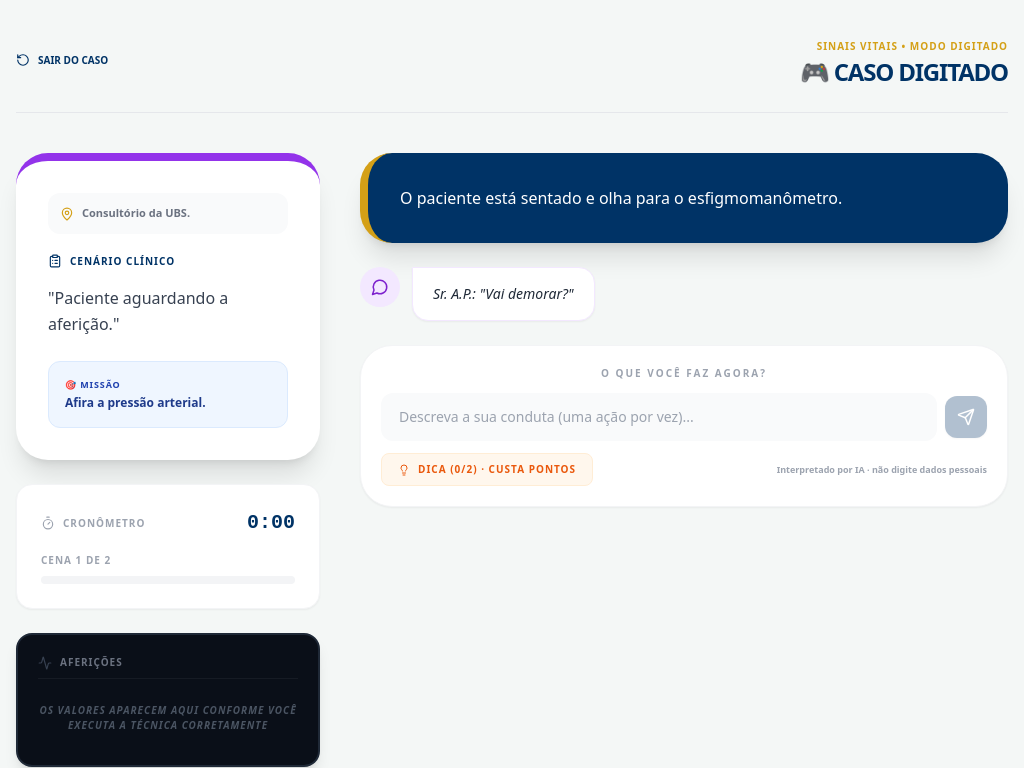
GuidedRpgView — modo digitado › conduta errada: mostra a consequência, não avança e o aluno pode digitar de novo
The width and height of the screenshot is (1024, 768).
Type "já vou medindo" into the field at (659, 417), box [381,393,937,441]
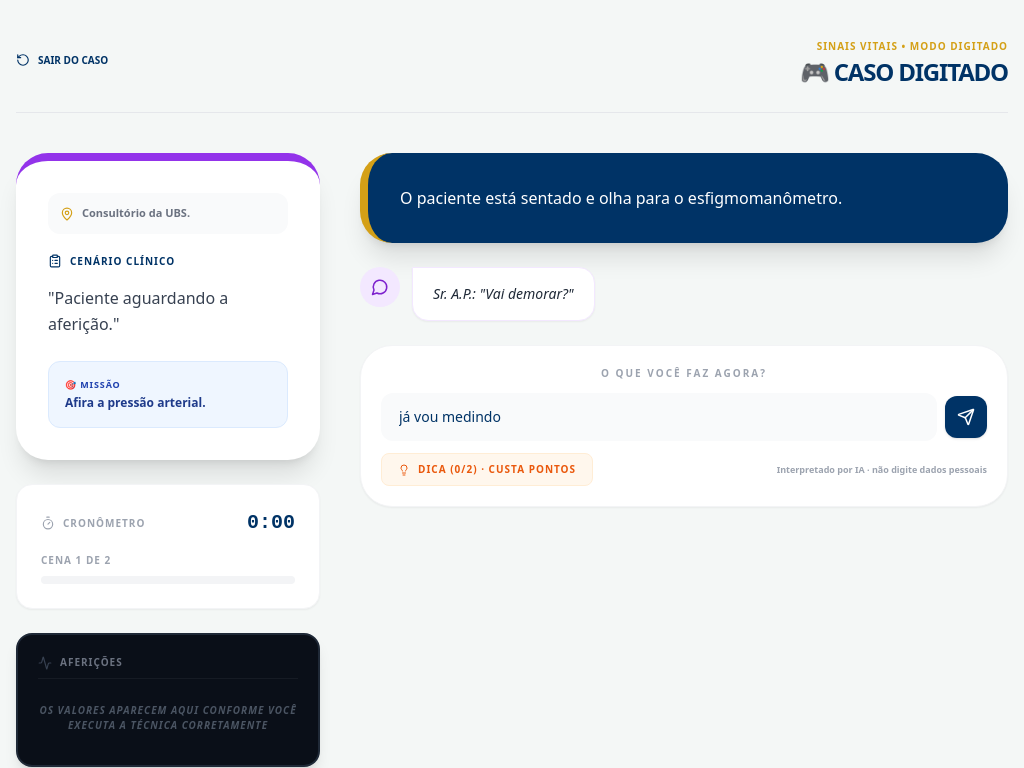
Click the button named "Enviar conduta" at (966, 417), box [945,396,987,438]
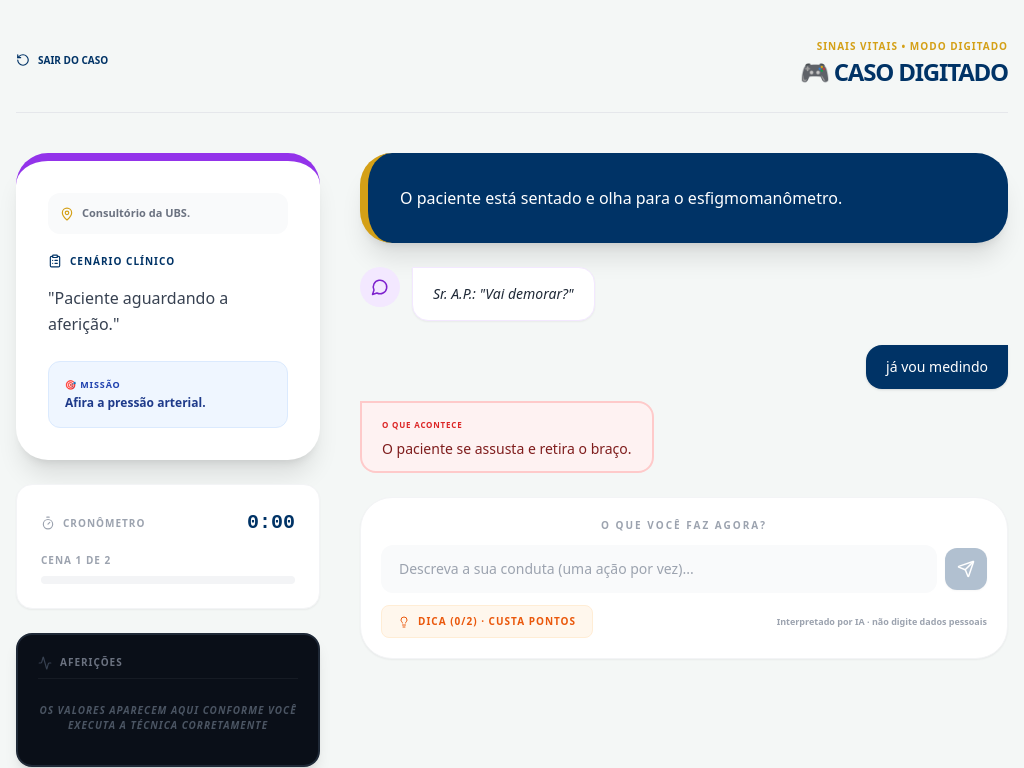
Expected: the button "Continuar" is not shown
Now the text "O paciente se assusta e retira o braço." is shown, box [382,439,632,458]
Type "explico antes" into the field at (659, 569), box [381,545,937,593]
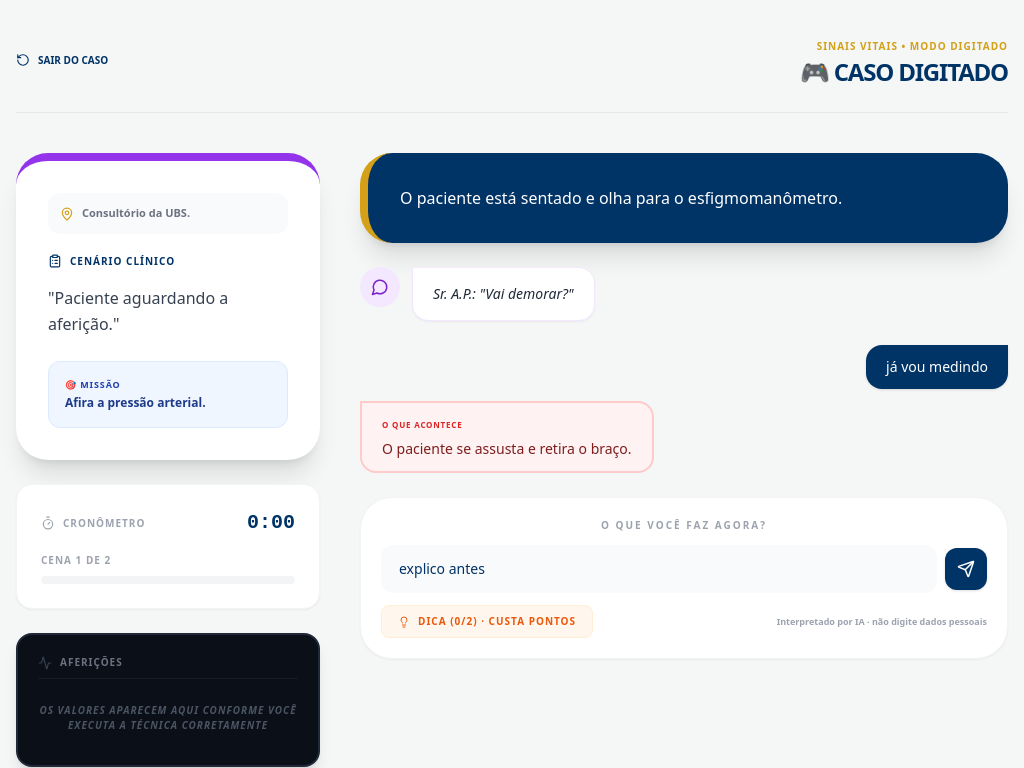
Click the button named "Enviar conduta" at (966, 569), box [945,548,987,590]
(page scrolled)
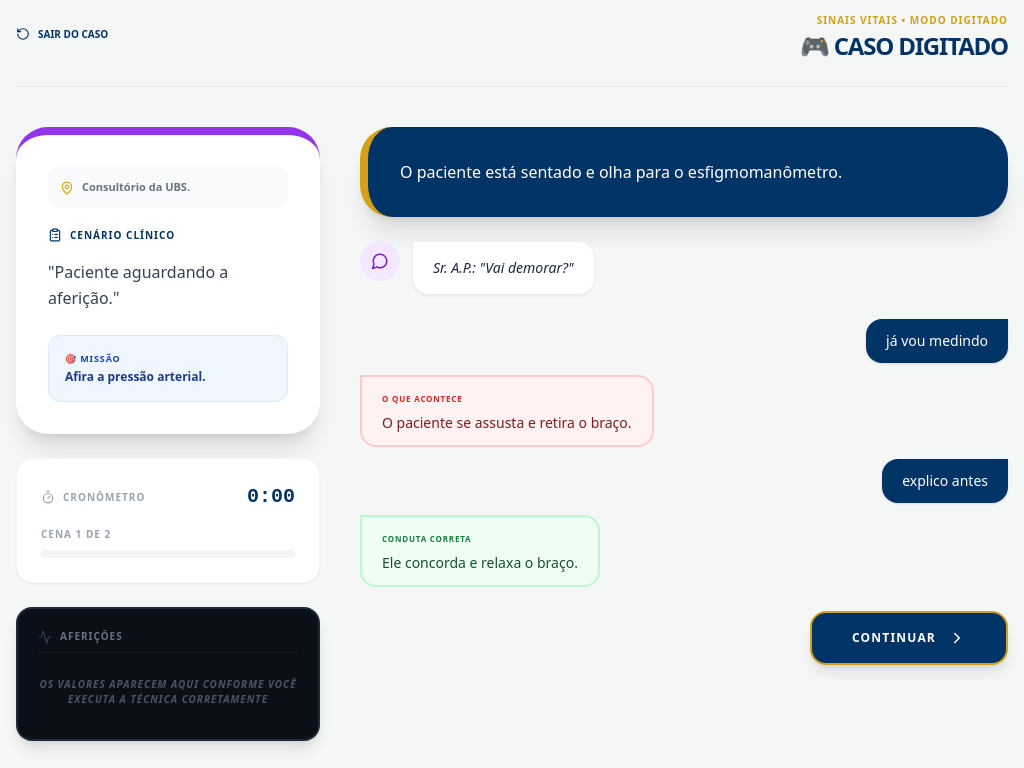
Now the button "Continuar" is shown, box [810,611,1008,665]
